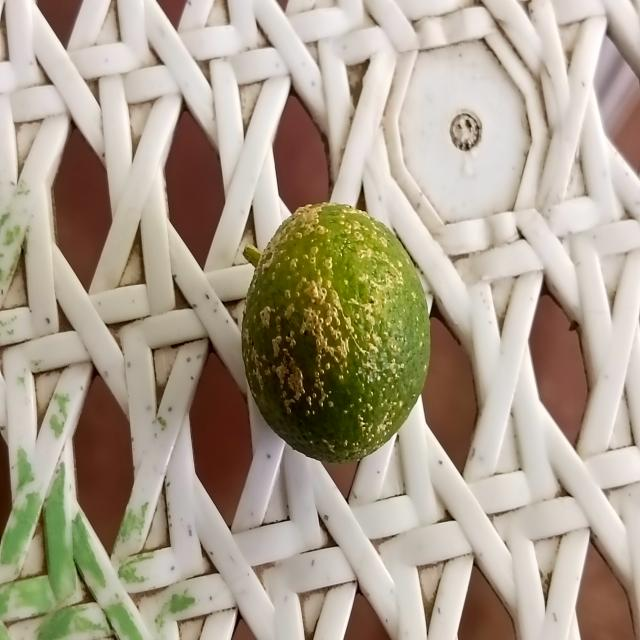scab: (240, 185, 431, 469)
